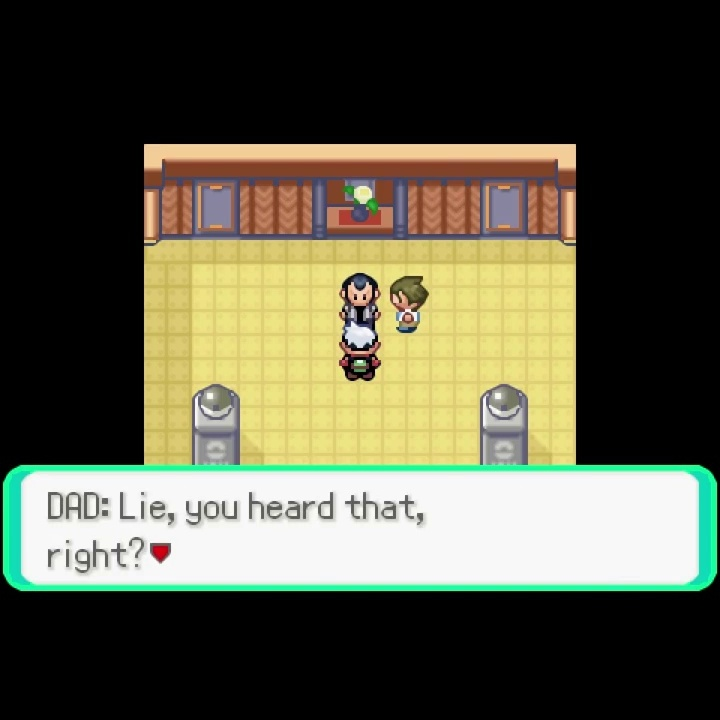agent: (337, 322, 386, 385)
npc: (387, 274, 431, 334), (336, 271, 384, 323)
